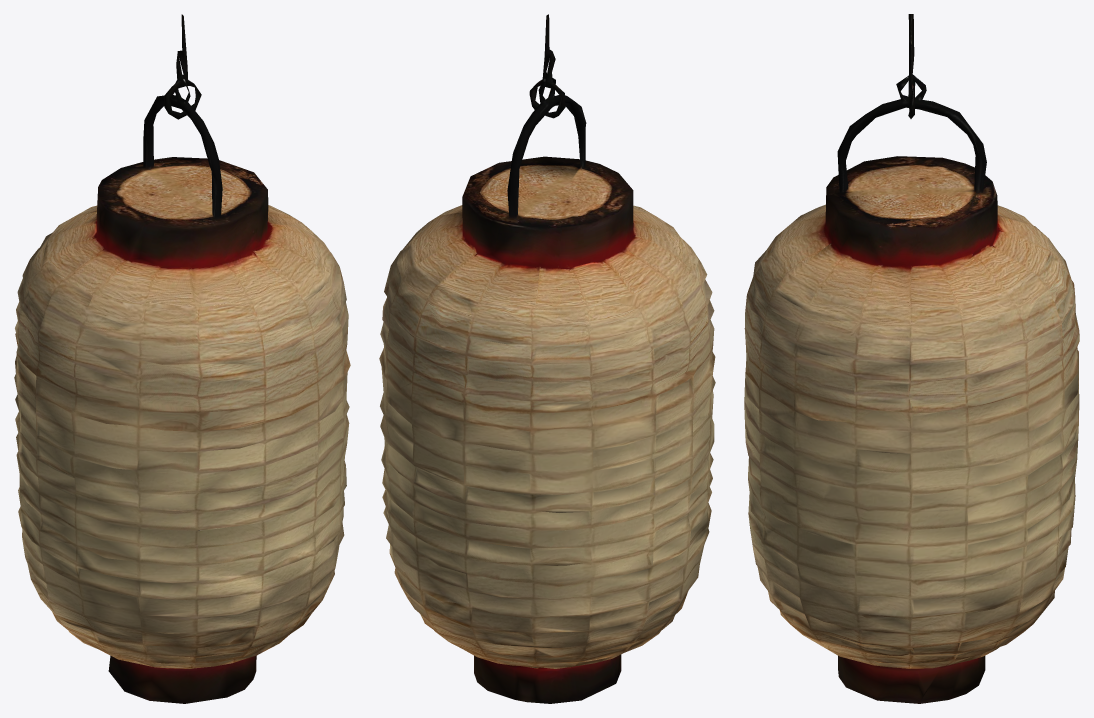
The model's file is chochin.glb.
3 views of the same model, side by side, from view 1: azimuth 30°, elevation 25°; view 2: azimuth 150°, elevation 25°; view 3: azimuth 270°, elevation 25° (orthographic).
Visible parts, largest first — view 1: tripo_node_57f6c381-cb06-4b0f-aa34-44f1403c60c8; view 2: tripo_node_57f6c381-cb06-4b0f-aa34-44f1403c60c8; view 3: tripo_node_57f6c381-cb06-4b0f-aa34-44f1403c60c8.
Boxes of the visible parts, x1,y1,x2,y2 form: tripo_node_57f6c381-cb06-4b0f-aa34-44f1403c60c8: (14, 14, 350, 703); tripo_node_57f6c381-cb06-4b0f-aa34-44f1403c60c8: (379, 14, 715, 703); tripo_node_57f6c381-cb06-4b0f-aa34-44f1403c60c8: (744, 14, 1079, 703).
Bounding box in the file's own units: 0.4656 × 1 × 0.461.
Materials: 1 (1 with a texture image).
